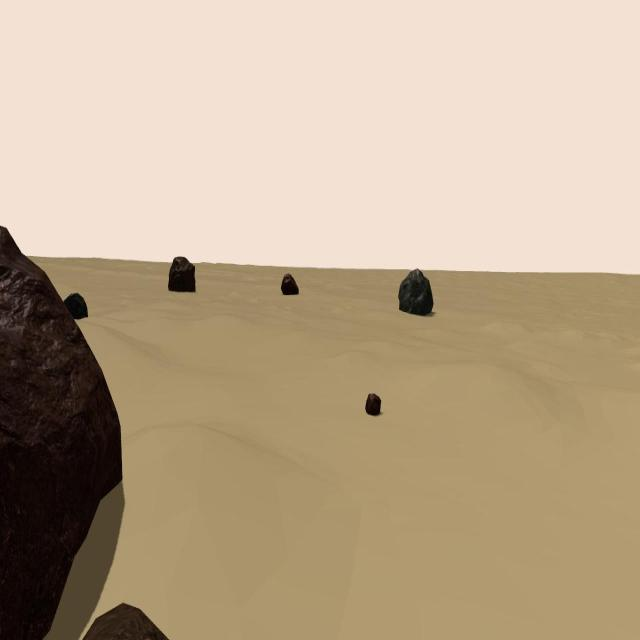rock: (0, 223, 122, 639), (82, 601, 169, 640), (398, 268, 434, 315), (168, 256, 196, 294), (62, 291, 89, 320), (280, 272, 298, 296), (366, 393, 381, 415)
